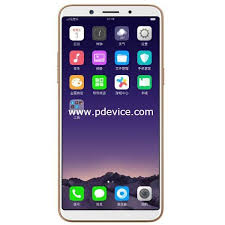oppo: (55, 1, 166, 222)
